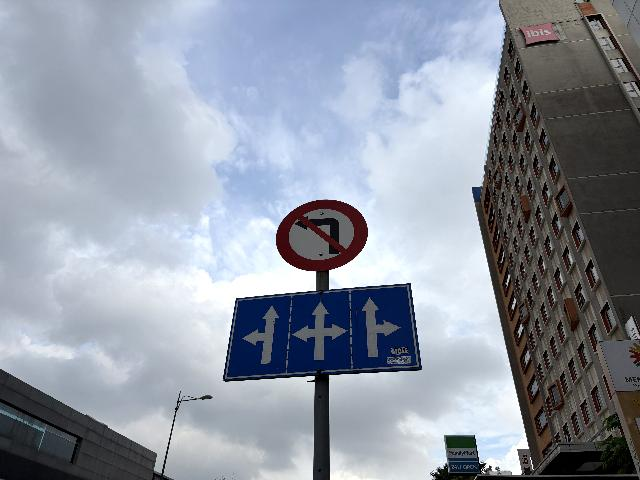cam-re-trai: (275, 198, 369, 273)
